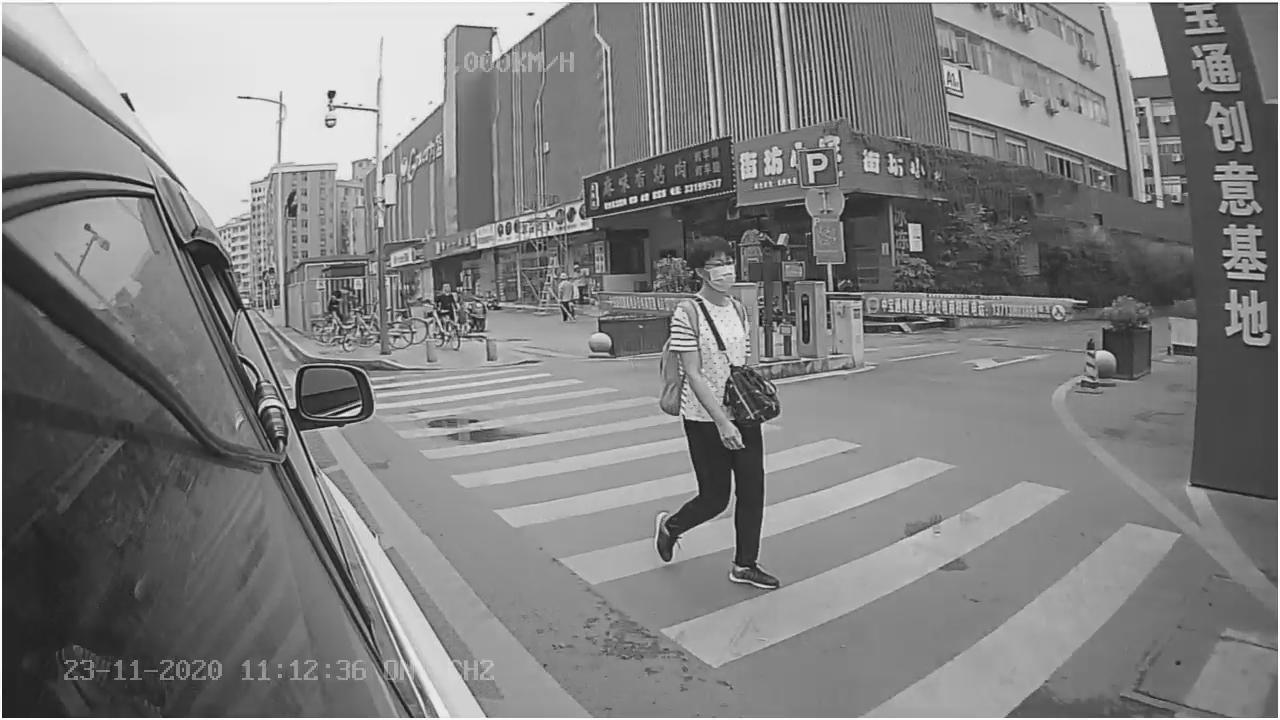person: (633, 229, 793, 601)
